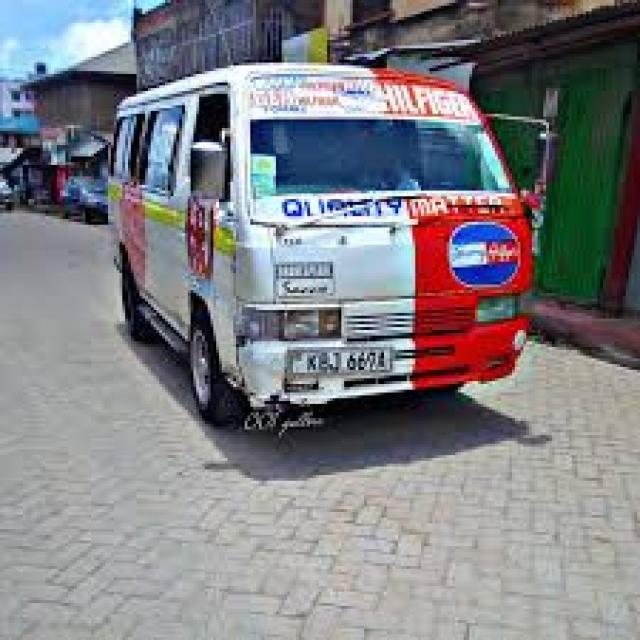matatu: (57, 24, 627, 494)
